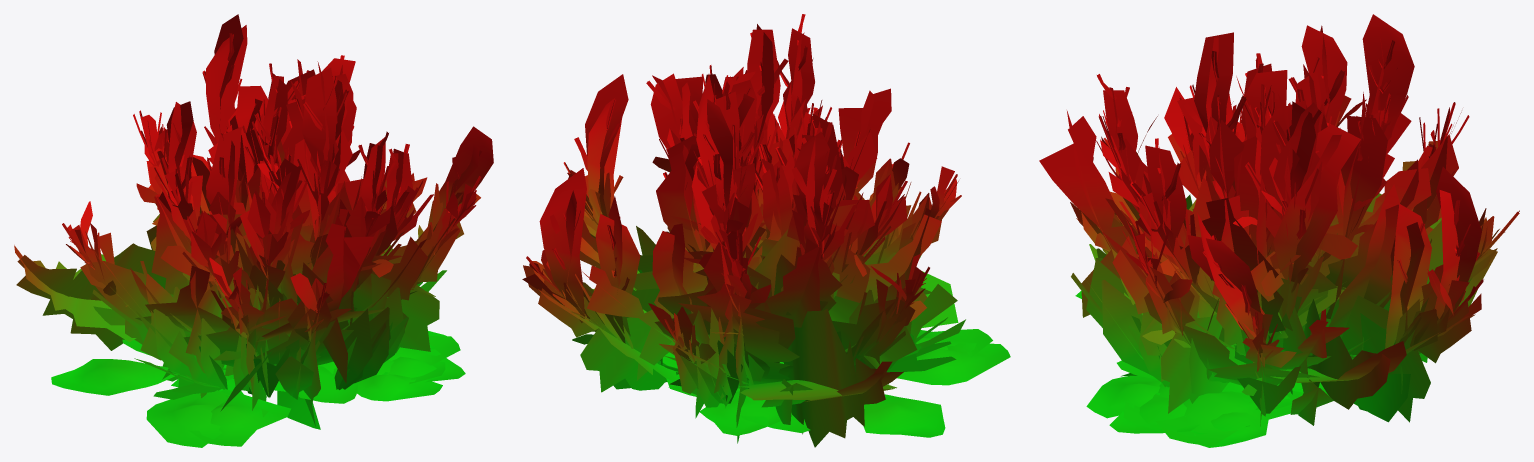
The model's file is Red_Plant_Var_1_LODs.fbx.
3 views of the same model, side by side, from view 1: azimuth 30°, elevation 25°; view 2: azimuth 150°, elevation 25°; view 3: azimuth 270°, elevation 25° (orthographic). The views are drawn at different scales.
Parts seen in each view (by area): view 1: Red_Plant_Var_1_LOD_0; view 2: Red_Plant_Var_1_LOD_0; view 3: Red_Plant_Var_1_LOD_0.
Part boxes in pixels (x1,y1,x2,y2): Red_Plant_Var_1_LOD_0: (14, 14, 493, 447); Red_Plant_Var_1_LOD_0: (522, 14, 1010, 447); Red_Plant_Var_1_LOD_0: (1039, 14, 1519, 447).
Size of what is drawn, in the model's own units: 1.47 by 1.19 by 1.35.
